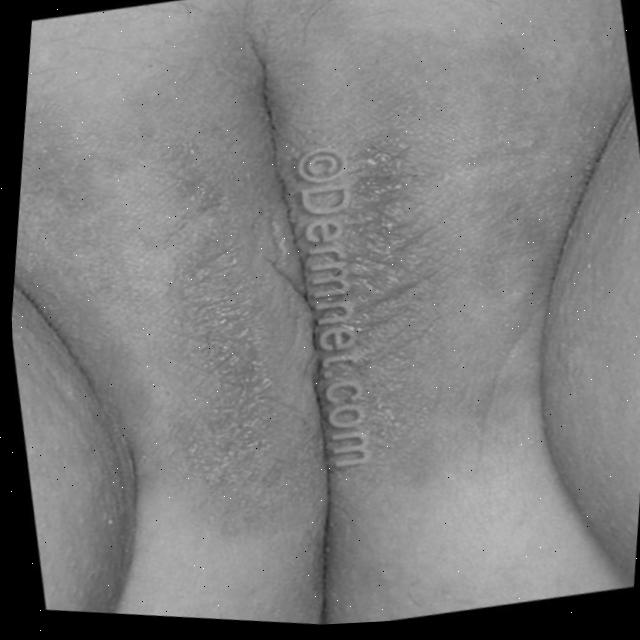Eczema: (151, 124, 450, 537)
